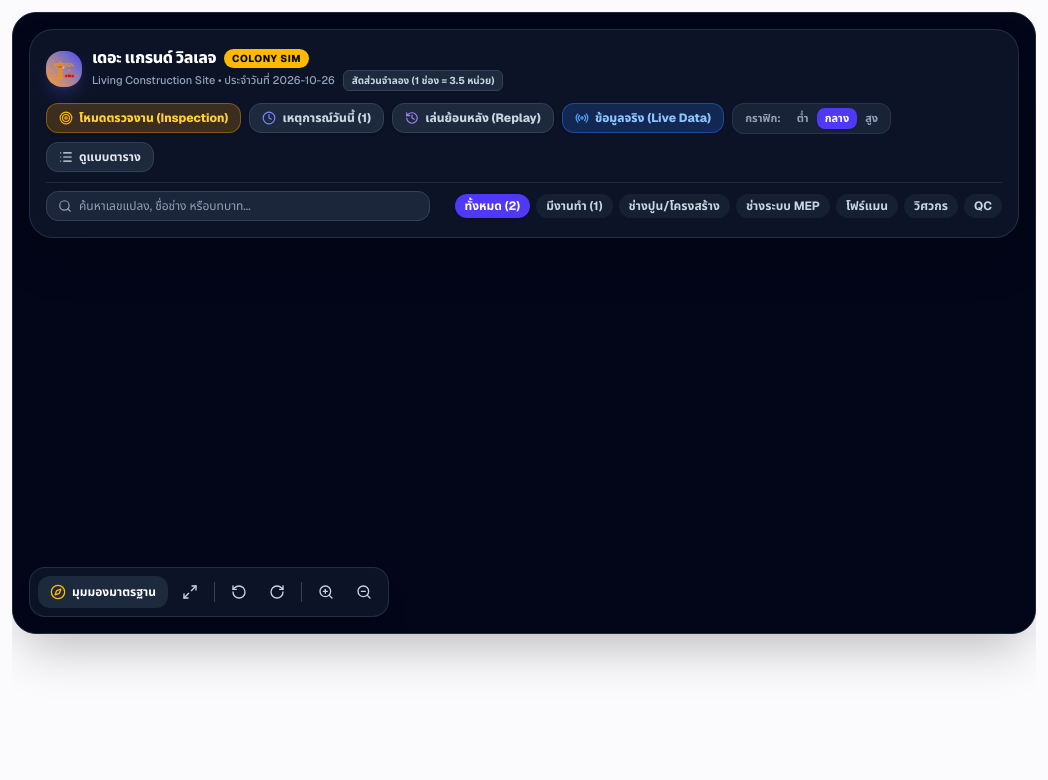
Scenario: LivingSiteSimulation Component UI › supports Demo vs Live Data mode toggle with transparent badges
The image size is (1048, 780).
# Toggle to Demo mode
What coordinates should you click on to do the following:
click the button titled "สลับระหว่างข้อมูลจำลอง (Demo) และข้อมูลจริงจากฐานข้อมูล"
I would click on:
 (643, 118)
Its box is [562,103,724,133].
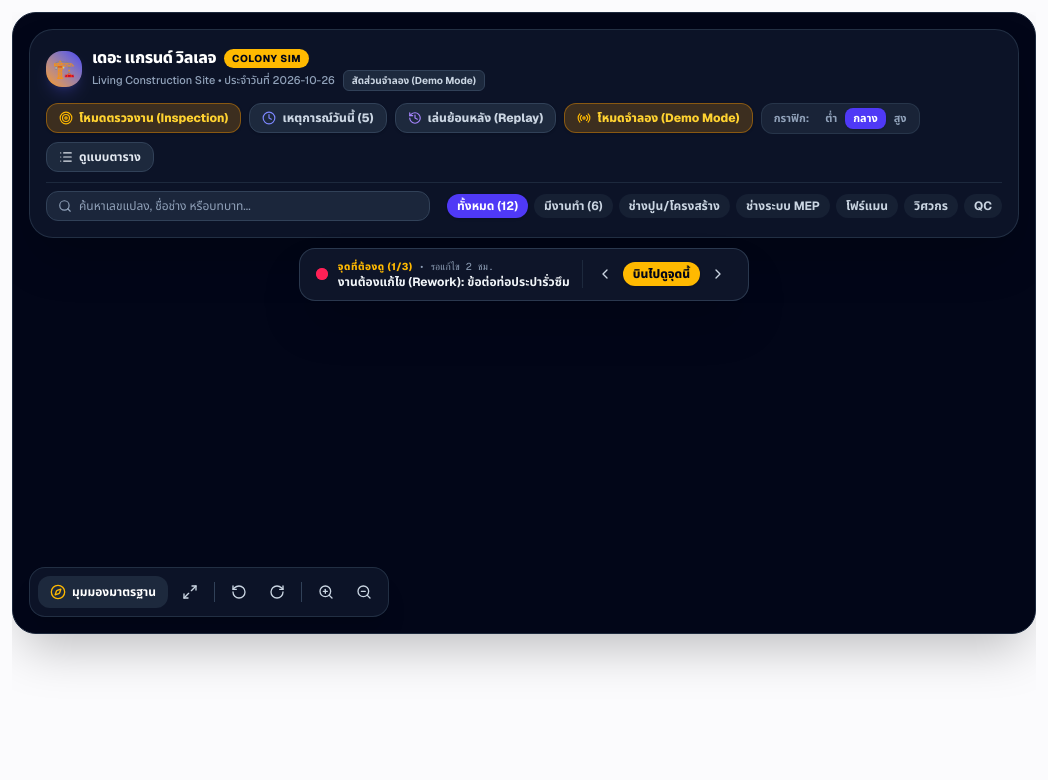
Check: the button titled "สลับระหว่างข้อมูลจำลอง (Demo) และข้อมูลจริงจากฐานข้อมูล" reads "โหมดจำลอง (Demo Mode)", box [564,103,753,133]
